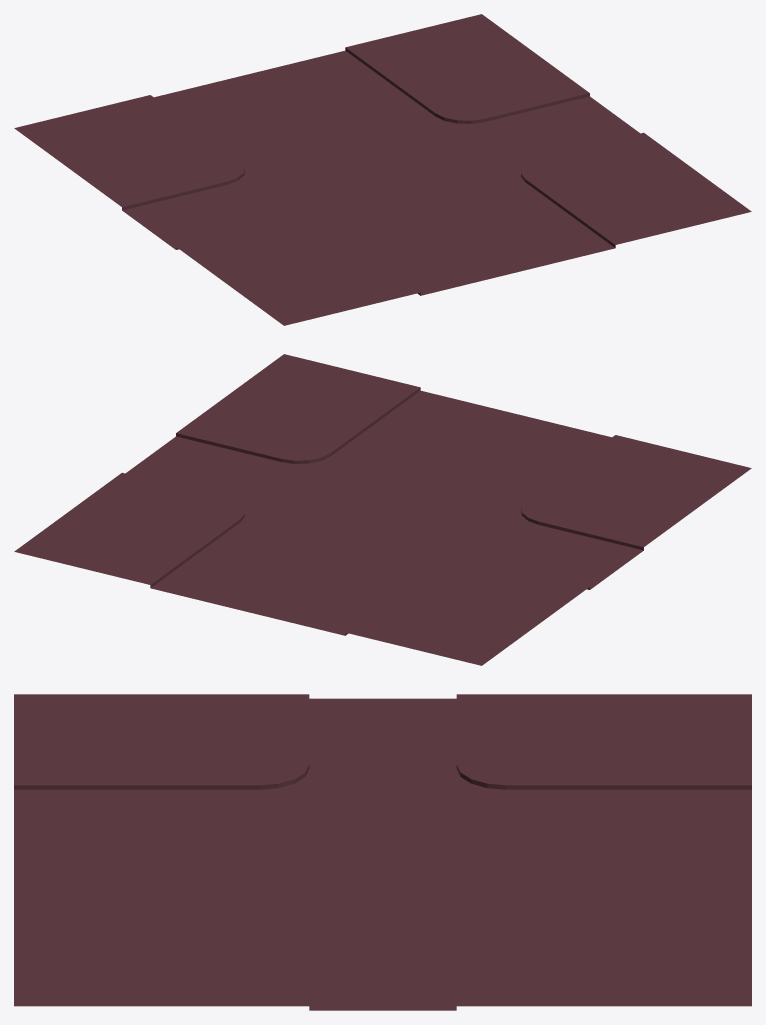
File: tile-road-mainroad-intersection-nb.fbx
3 renders of one model, top to bottom at view 1: azimuth 30°, elevation 25°; view 2: azimuth 150°, elevation 25°; view 3: azimuth 270°, elevation 25°, orthographic. The views are drawn at different scales.
Visible parts, largest first — view 1: tile-road-mainroad-intersection-nb; view 2: tile-road-mainroad-intersection-nb; view 3: tile-road-mainroad-intersection-nb.
Boxes of the visible parts, x1=… form: tile-road-mainroad-intersection-nb: x1=14, y1=14, x2=751, y2=325; tile-road-mainroad-intersection-nb: x1=14, y1=354, x2=751, y2=665; tile-road-mainroad-intersection-nb: x1=14, y1=694, x2=751, y2=1010.
Bounding box in the file's own units: 30 × 0.2 × 30.
